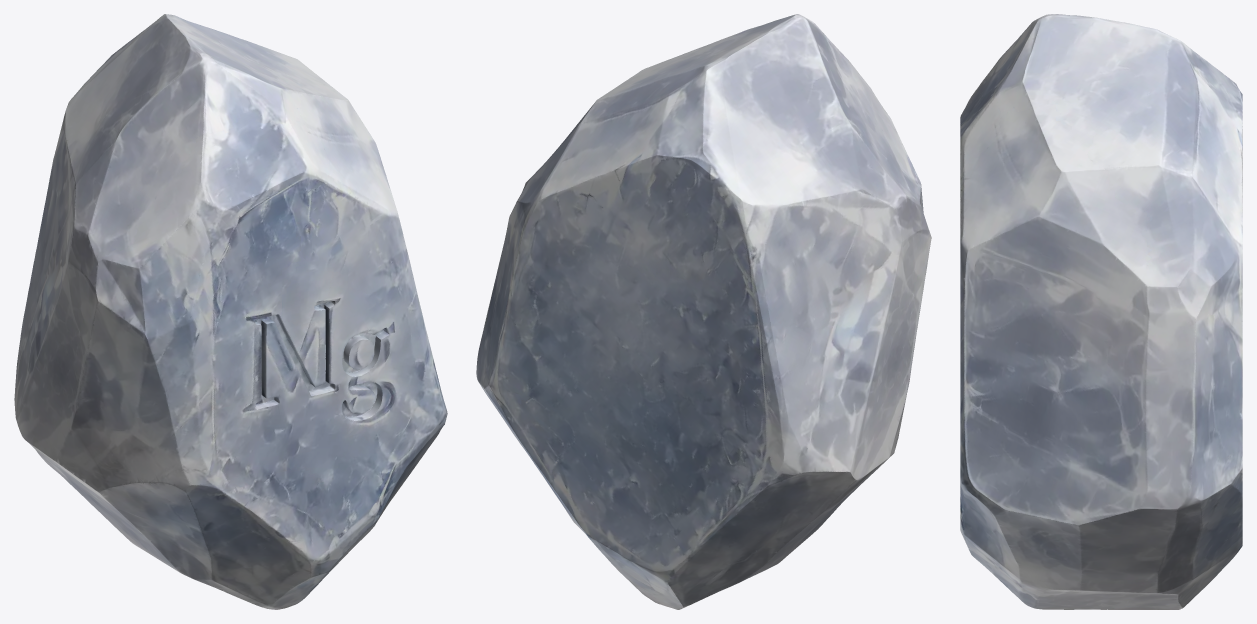
3 renders of one model, left to right at view 1: azimuth 30°, elevation 25°; view 2: azimuth 150°, elevation 25°; view 3: azimuth 270°, elevation 25°, orthographic.
Visible parts, largest first — view 1: model; view 2: model; view 3: model.
Boxes of the visible parts, x1=… form: model: x1=14, y1=14, x2=447, y2=609; model: x1=476, y1=14, x2=931, y2=609; model: x1=960, y1=14, x2=1242, y2=609.
Bounding box in the file's own units: 1.25 × 1.8 × 0.8251.
1 material, 1 textured.
